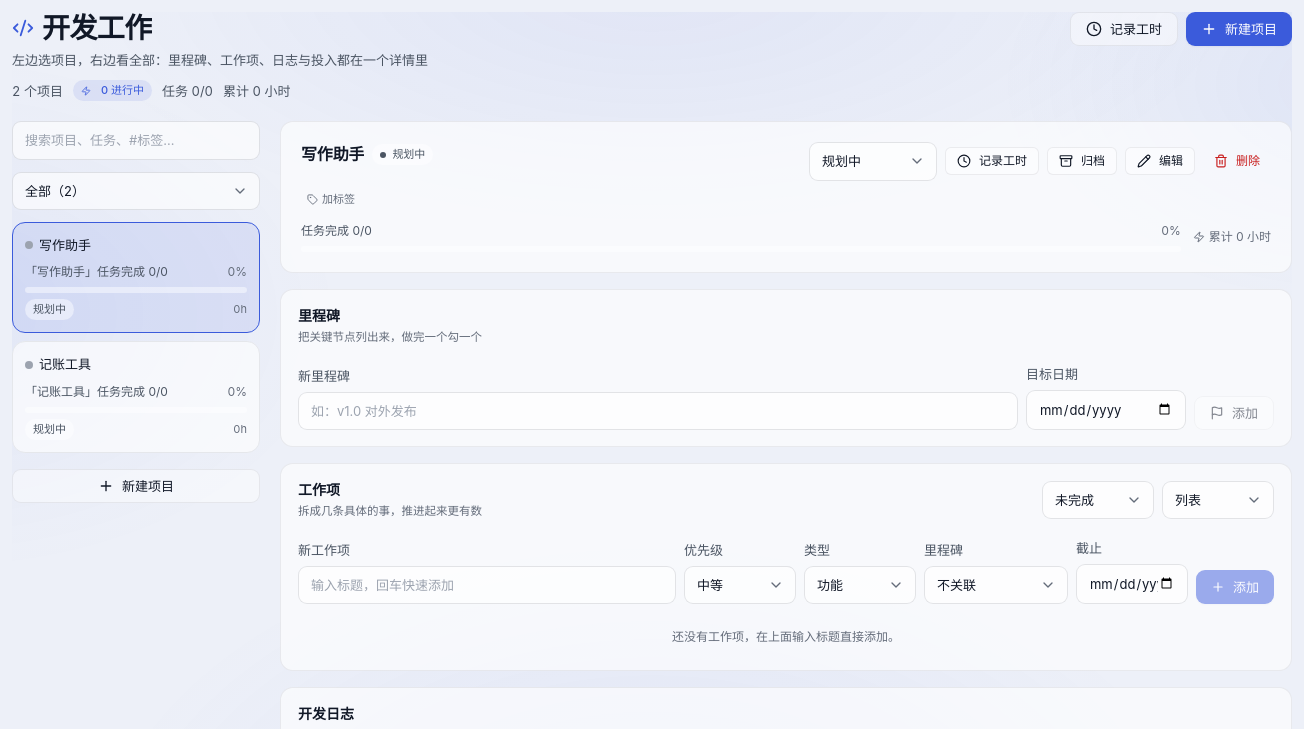
Test case: DevPage 布局与项目 › 左栏点另一个项目，详情跟着切换
Expected: the heading "写作助手" is shown, [301, 142, 364, 167]
Click the button "记账工具 「记账工具」任务完成 0/0 0% 规划中 0h" at (136, 397), box [12, 341, 260, 453]
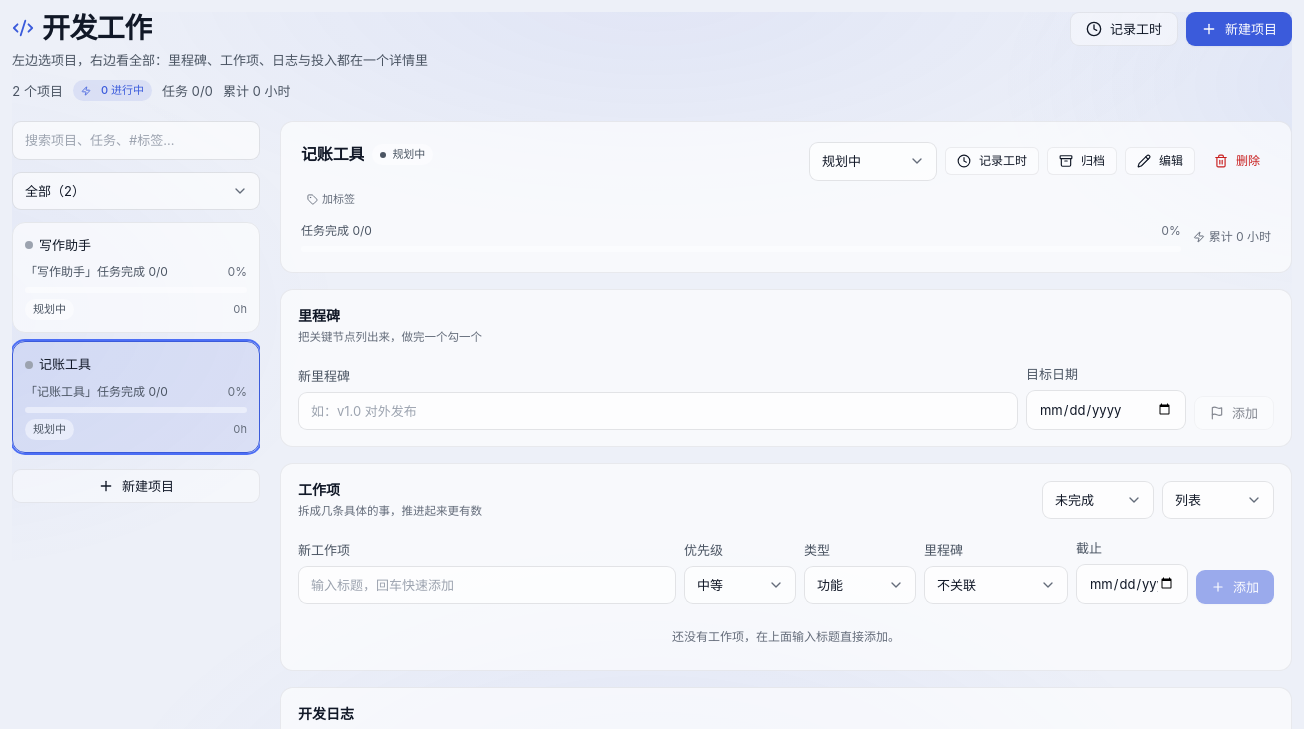
Expected: the heading "记账工具" is shown, [301, 142, 364, 167]
